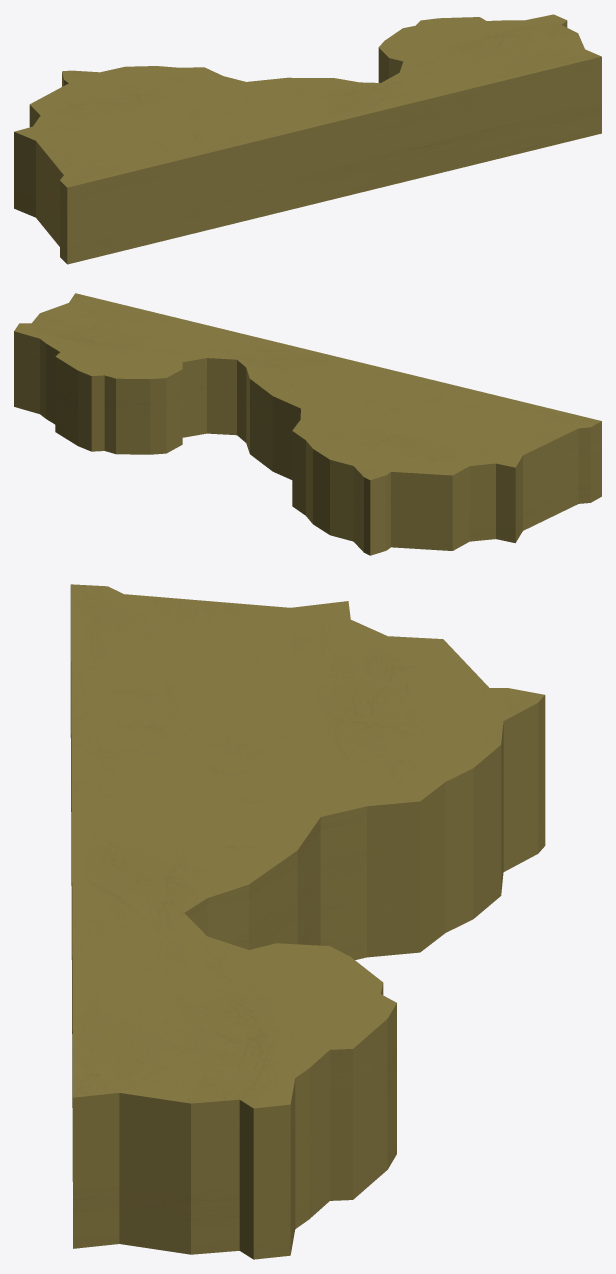
The model's file is libya.DAE.
3 renders of one model, top to bottom at view 1: azimuth 30°, elevation 25°; view 2: azimuth 150°, elevation 25°; view 3: azimuth 270°, elevation 25°, orthographic. The views are drawn at different scales.
Parts seen in each view (by area): view 1: Libya; view 2: Libya; view 3: Libya.
Part boxes in pixels (x1,y1,x2,y2): Libya: [14, 14, 601, 264]; Libya: [14, 293, 601, 555]; Libya: [70, 584, 545, 1259].
Bounding box in the file's own units: 186 × 71.11 × 25.
Materials: 1 (1 with a texture image).
